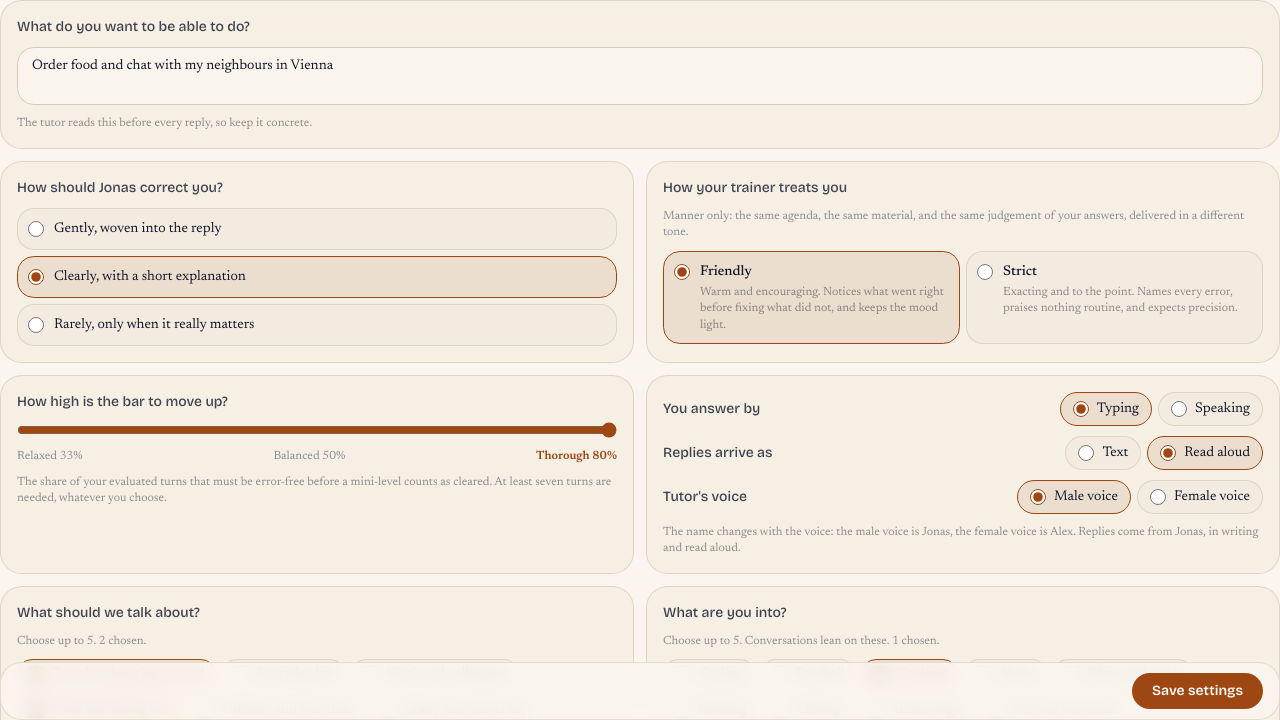
Test: saving › keeps the chosen pass mark on screen after a save
Set the slider named "pass mark for moving up" to "0" at (25, 430), box [17,422,617,438]
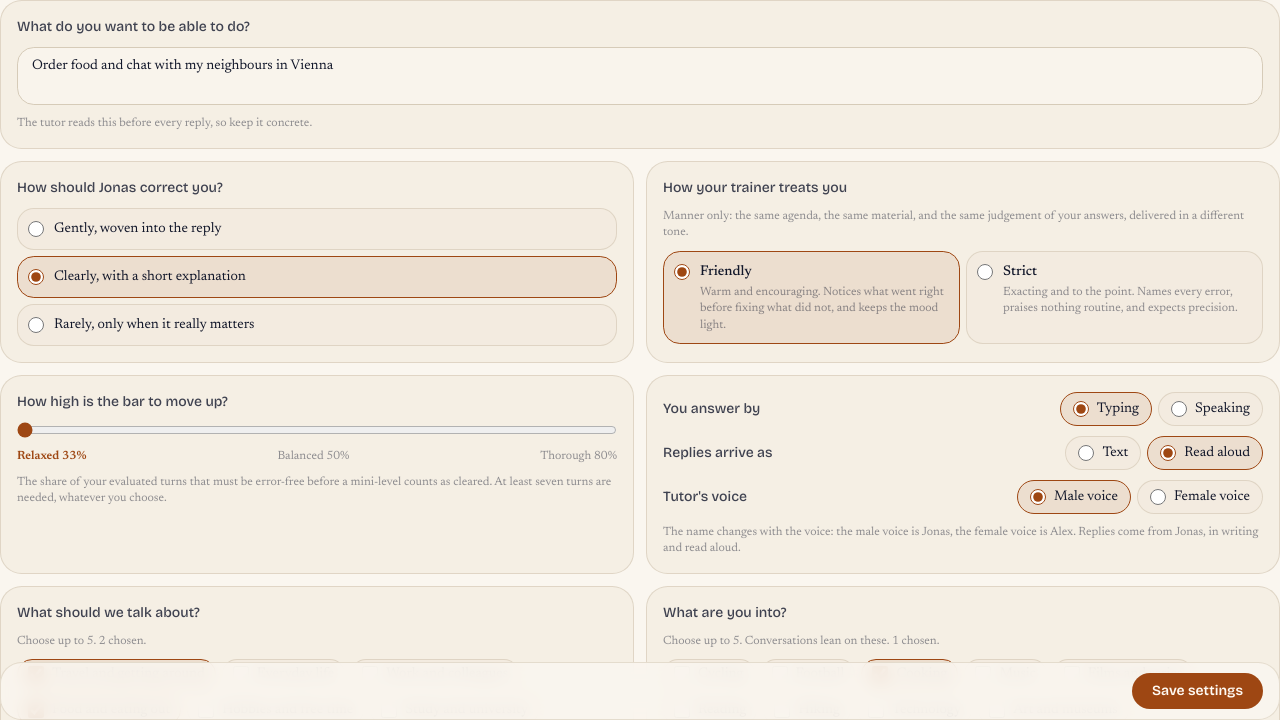
Click the button "Save settings" at (1198, 691), box [1132,673,1263,709]
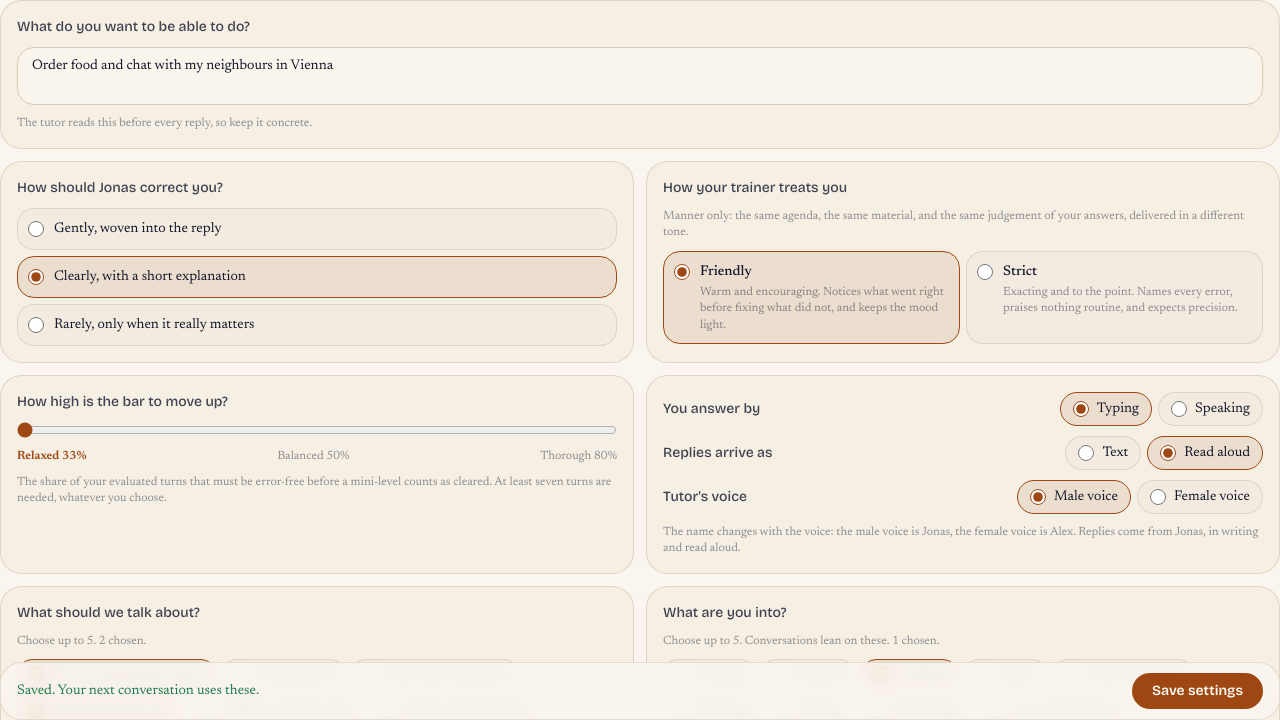
Expected: the element named "masteryThreshold" holds "33", [0,374,634,574]
Now the message shows "Saved", box [17,684,259,698]
